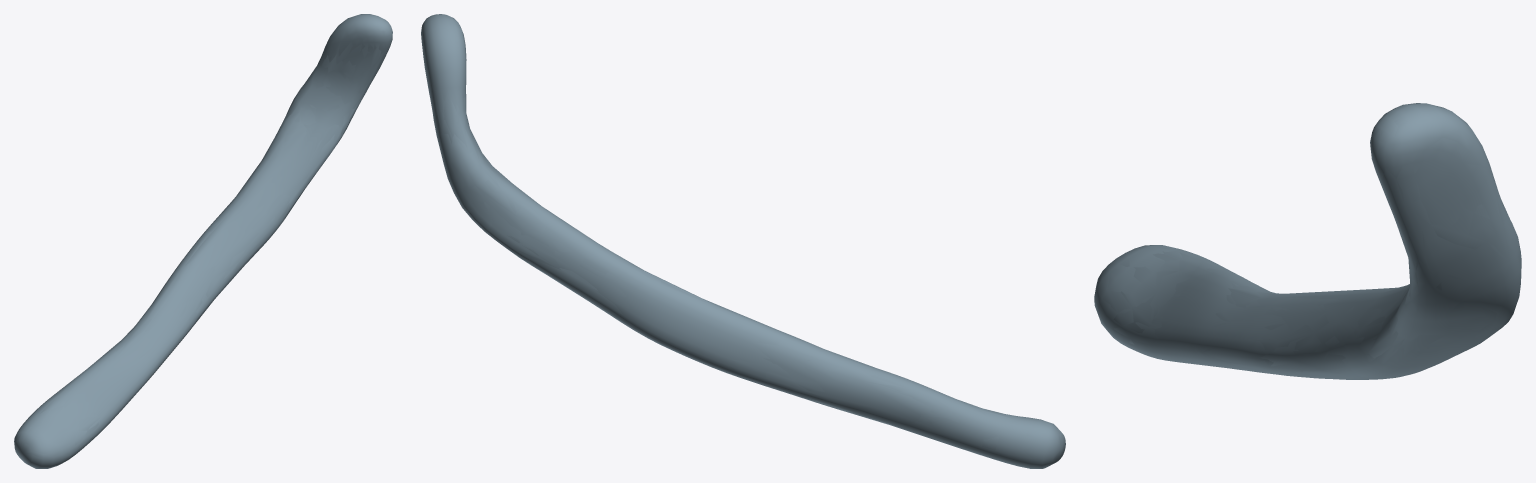
3 views of the same model, side by side, from view 1: azimuth 30°, elevation 25°; view 2: azimuth 150°, elevation 25°; view 3: azimuth 270°, elevation 25° (orthographic). The views are drawn at different scales.
Parts seen in each view (by area): view 1: CC L06, CC L06 high, CC L06 low; view 2: CC L06 high, CC L06, CC L06 low; view 3: CC L06 high, CC L06, CC L06 low.
Boxes of the visible parts, left/top/right/bottom form: CC L06: left=14, top=14, right=392, bottom=468; CC L06 high: left=14, top=14, right=392, bottom=468; CC L06 low: left=40, top=54, right=375, bottom=438; CC L06 high: left=421, top=14, right=1065, bottom=468; CC L06: left=421, top=14, right=1064, bottom=468; CC L06 low: left=431, top=91, right=1024, bottom=432; CC L06 high: left=1094, top=104, right=1520, bottom=379; CC L06: left=1094, top=103, right=1521, bottom=379; CC L06 low: left=1120, top=195, right=1500, bottom=375.
Size of the model in its own units: 13.3 by 8.87 by 5.67.
